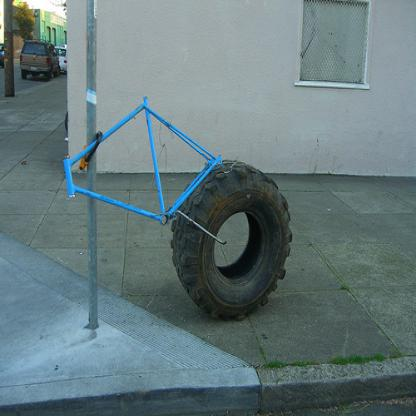car: (21, 39, 61, 81), (54, 43, 68, 76)
